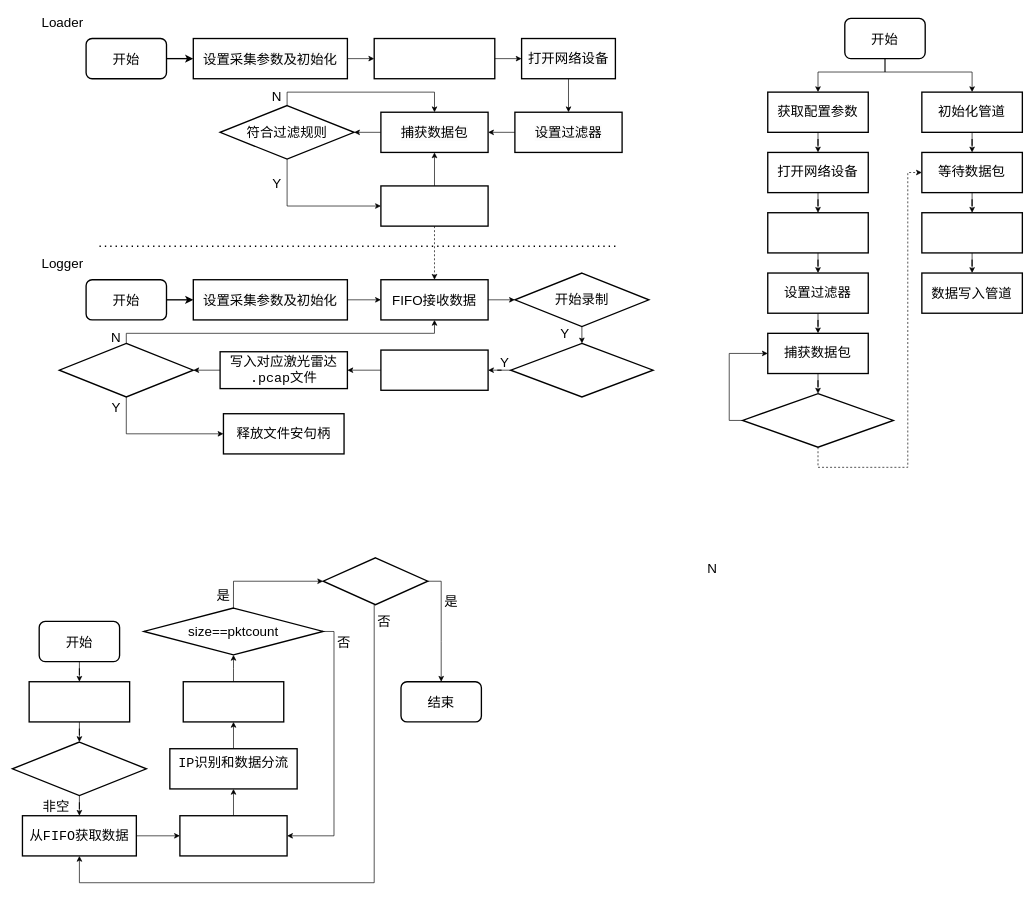
The diagram is 1034 pixels wide and 900 high, and some of its shapes have lost their labels. The centre of each missing label's shape, as x and y in pixels:
"FIFO传输数据" belongs at [434,205].
"size==BATCH_SIZE" belongs at [818,420].
"创建新的文件句柄" belongs at [581,369].
"初始化FIFO" belongs at [79,701].
"到达分包条件" belongs at [126,369].
"匹配IP.src" belongs at [434,370].
"取出数据包" belongs at [233,835].
"数据封装" belongs at [972,232].
"数据落盘" belongs at [233,701].
"检查FIFO队列" belongs at [79,768].
"获取网络参数" belongs at [818,232].
"获取网络设备接口" belongs at [434,58].
"采集结束" belongs at [375,581].
